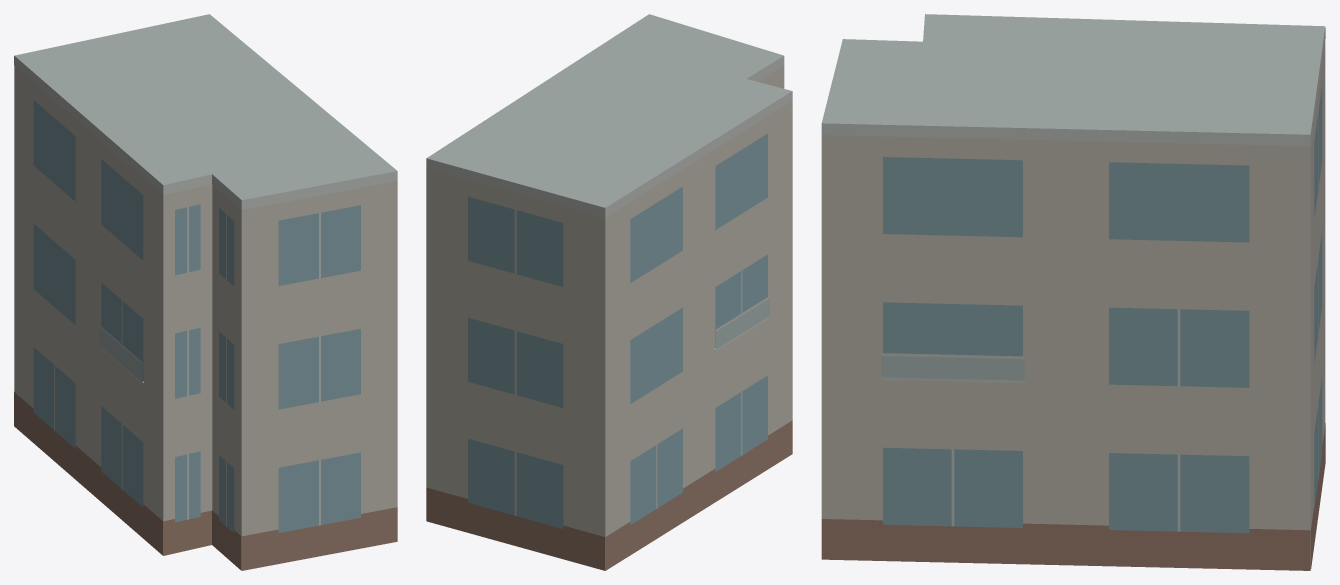
The model's file is survey-upis-33005225.glb.
3 views of the same model, side by side, from view 1: azimuth 30°, elevation 25°; view 2: azimuth 150°, elevation 25°; view 3: azimuth 270°, elevation 25° (orthographic). The views are drawn at different scales.
Visible parts, largest first — view 1: survey-upis-33005225.tmp; view 2: survey-upis-33005225.tmp; view 3: survey-upis-33005225.tmp.
Boxes of the visible parts, left/top/right/bottom form: survey-upis-33005225.tmp: left=14, top=14, right=397, bottom=570; survey-upis-33005225.tmp: left=426, top=14, right=792, bottom=570; survey-upis-33005225.tmp: left=821, top=14, right=1325, bottom=570.
Bounding box in the file's own units: 5.44 × 9.15 × 9.59.
